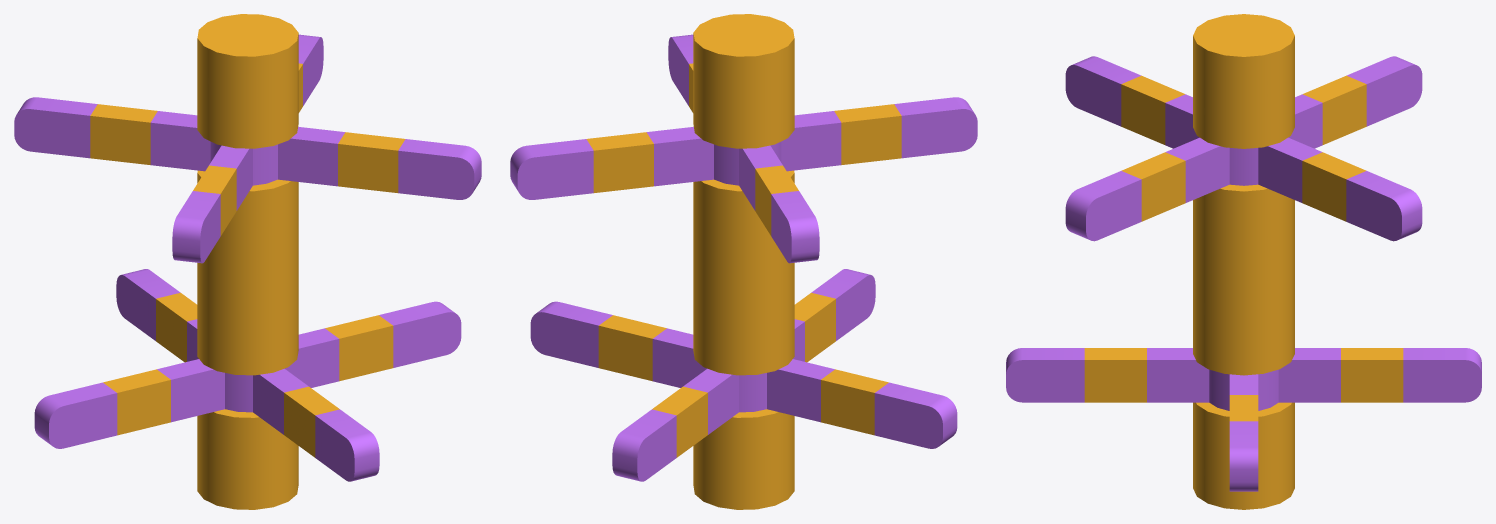
The model's file is Blades B Medium.fbx.
3 renders of one model, left to right at view 1: azimuth 30°, elevation 25°; view 2: azimuth 150°, elevation 25°; view 3: azimuth 270°, elevation 25°, orthographic.
Parts seen in each view (by area): view 1: Blades B Medium.001, Blades B Medium, Blades B Medium.002; view 2: Blades B Medium.001, Blades B Medium, Blades B Medium.002; view 3: Blades B Medium.001, Blades B Medium.002, Blades B Medium.
Boxes of the visible parts, bbox=[...] form: Blades B Medium.001: bbox=[197, 14, 298, 509]; Blades B Medium: bbox=[34, 269, 461, 481]; Blades B Medium.002: bbox=[14, 34, 481, 263]; Blades B Medium.001: bbox=[693, 14, 794, 509]; Blades B Medium: bbox=[530, 269, 957, 481]; Blades B Medium.002: bbox=[510, 34, 977, 263]; Blades B Medium.001: bbox=[1193, 14, 1294, 509]; Blades B Medium.002: bbox=[1065, 56, 1422, 241]; Blades B Medium: bbox=[1006, 348, 1481, 491].
Size of the model in its own units: 200 by 210 by 200.
